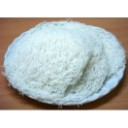idiyappam: (19, 29, 120, 93)
